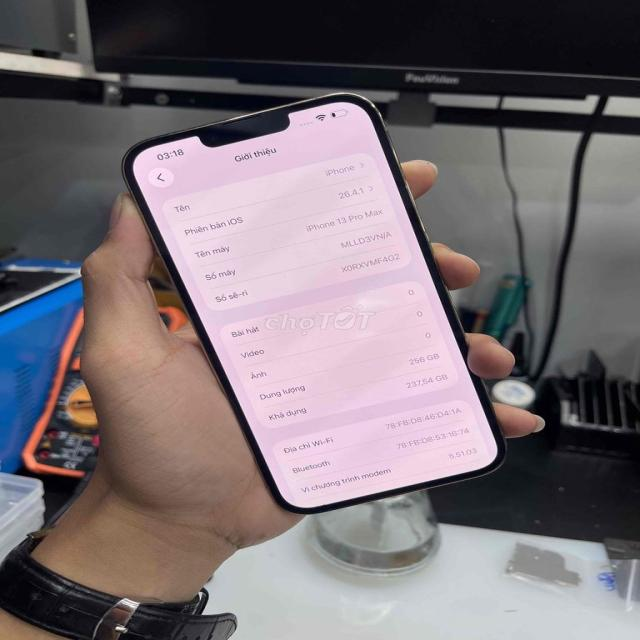gen_12_13: (122, 89, 510, 511)
